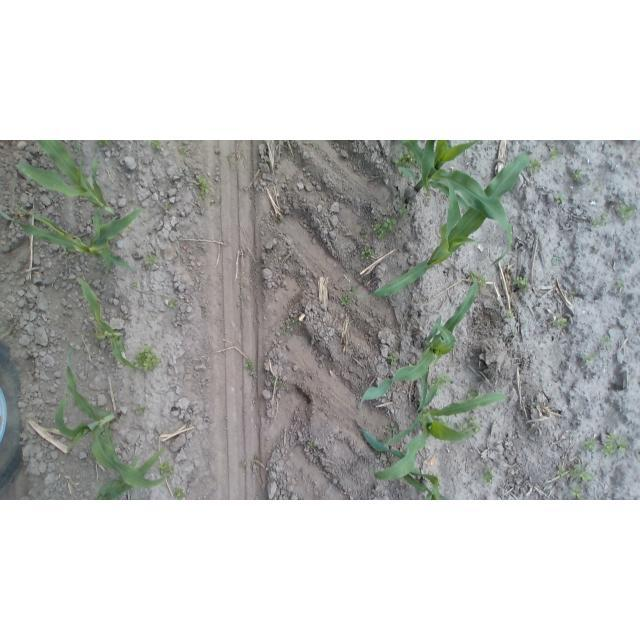Maize: (357, 150, 531, 299), (360, 271, 478, 418), (56, 342, 162, 488), (396, 140, 515, 266), (369, 378, 509, 480), (13, 141, 123, 238), (2, 202, 144, 272), (353, 419, 457, 500), (72, 275, 149, 374), (91, 443, 170, 499)
Weeds: (134, 344, 161, 372), (601, 430, 629, 456), (563, 464, 595, 482), (373, 217, 398, 239), (195, 172, 211, 201), (392, 150, 416, 168), (619, 203, 636, 222), (556, 457, 568, 479), (580, 437, 596, 452), (159, 461, 173, 478), (512, 276, 529, 290), (480, 467, 494, 484), (467, 416, 481, 433), (361, 244, 375, 260), (436, 375, 453, 387), (528, 160, 542, 174), (569, 485, 583, 499), (245, 358, 256, 374), (555, 317, 568, 330), (384, 422, 397, 435), (600, 332, 612, 346), (591, 216, 605, 228), (397, 204, 410, 216), (271, 376, 284, 388), (583, 353, 595, 366), (572, 170, 584, 183), (174, 487, 187, 499), (340, 294, 353, 306), (230, 154, 242, 167), (250, 453, 258, 472), (552, 252, 564, 264), (549, 148, 560, 161), (135, 405, 148, 416), (457, 421, 470, 432), (145, 255, 158, 266), (469, 270, 480, 282), (598, 211, 609, 223), (150, 140, 163, 150), (388, 352, 398, 364), (467, 389, 479, 399), (478, 273, 488, 284), (555, 192, 565, 203), (385, 457, 395, 467), (507, 308, 516, 318), (306, 439, 315, 449), (349, 285, 359, 294), (179, 146, 188, 156), (616, 280, 625, 290), (360, 228, 369, 238), (211, 197, 221, 206), (593, 184, 602, 193), (253, 255, 261, 265), (306, 171, 314, 181), (95, 141, 111, 146), (132, 281, 141, 289), (169, 300, 178, 308), (240, 460, 248, 469), (277, 213, 284, 223), (380, 436, 390, 443), (282, 326, 290, 334), (164, 202, 172, 210), (239, 278, 246, 286), (570, 290, 578, 297), (290, 317, 298, 324), (63, 249, 71, 256), (424, 295, 432, 302), (239, 293, 245, 301), (270, 219, 276, 226), (510, 331, 517, 337), (284, 140, 289, 142)
